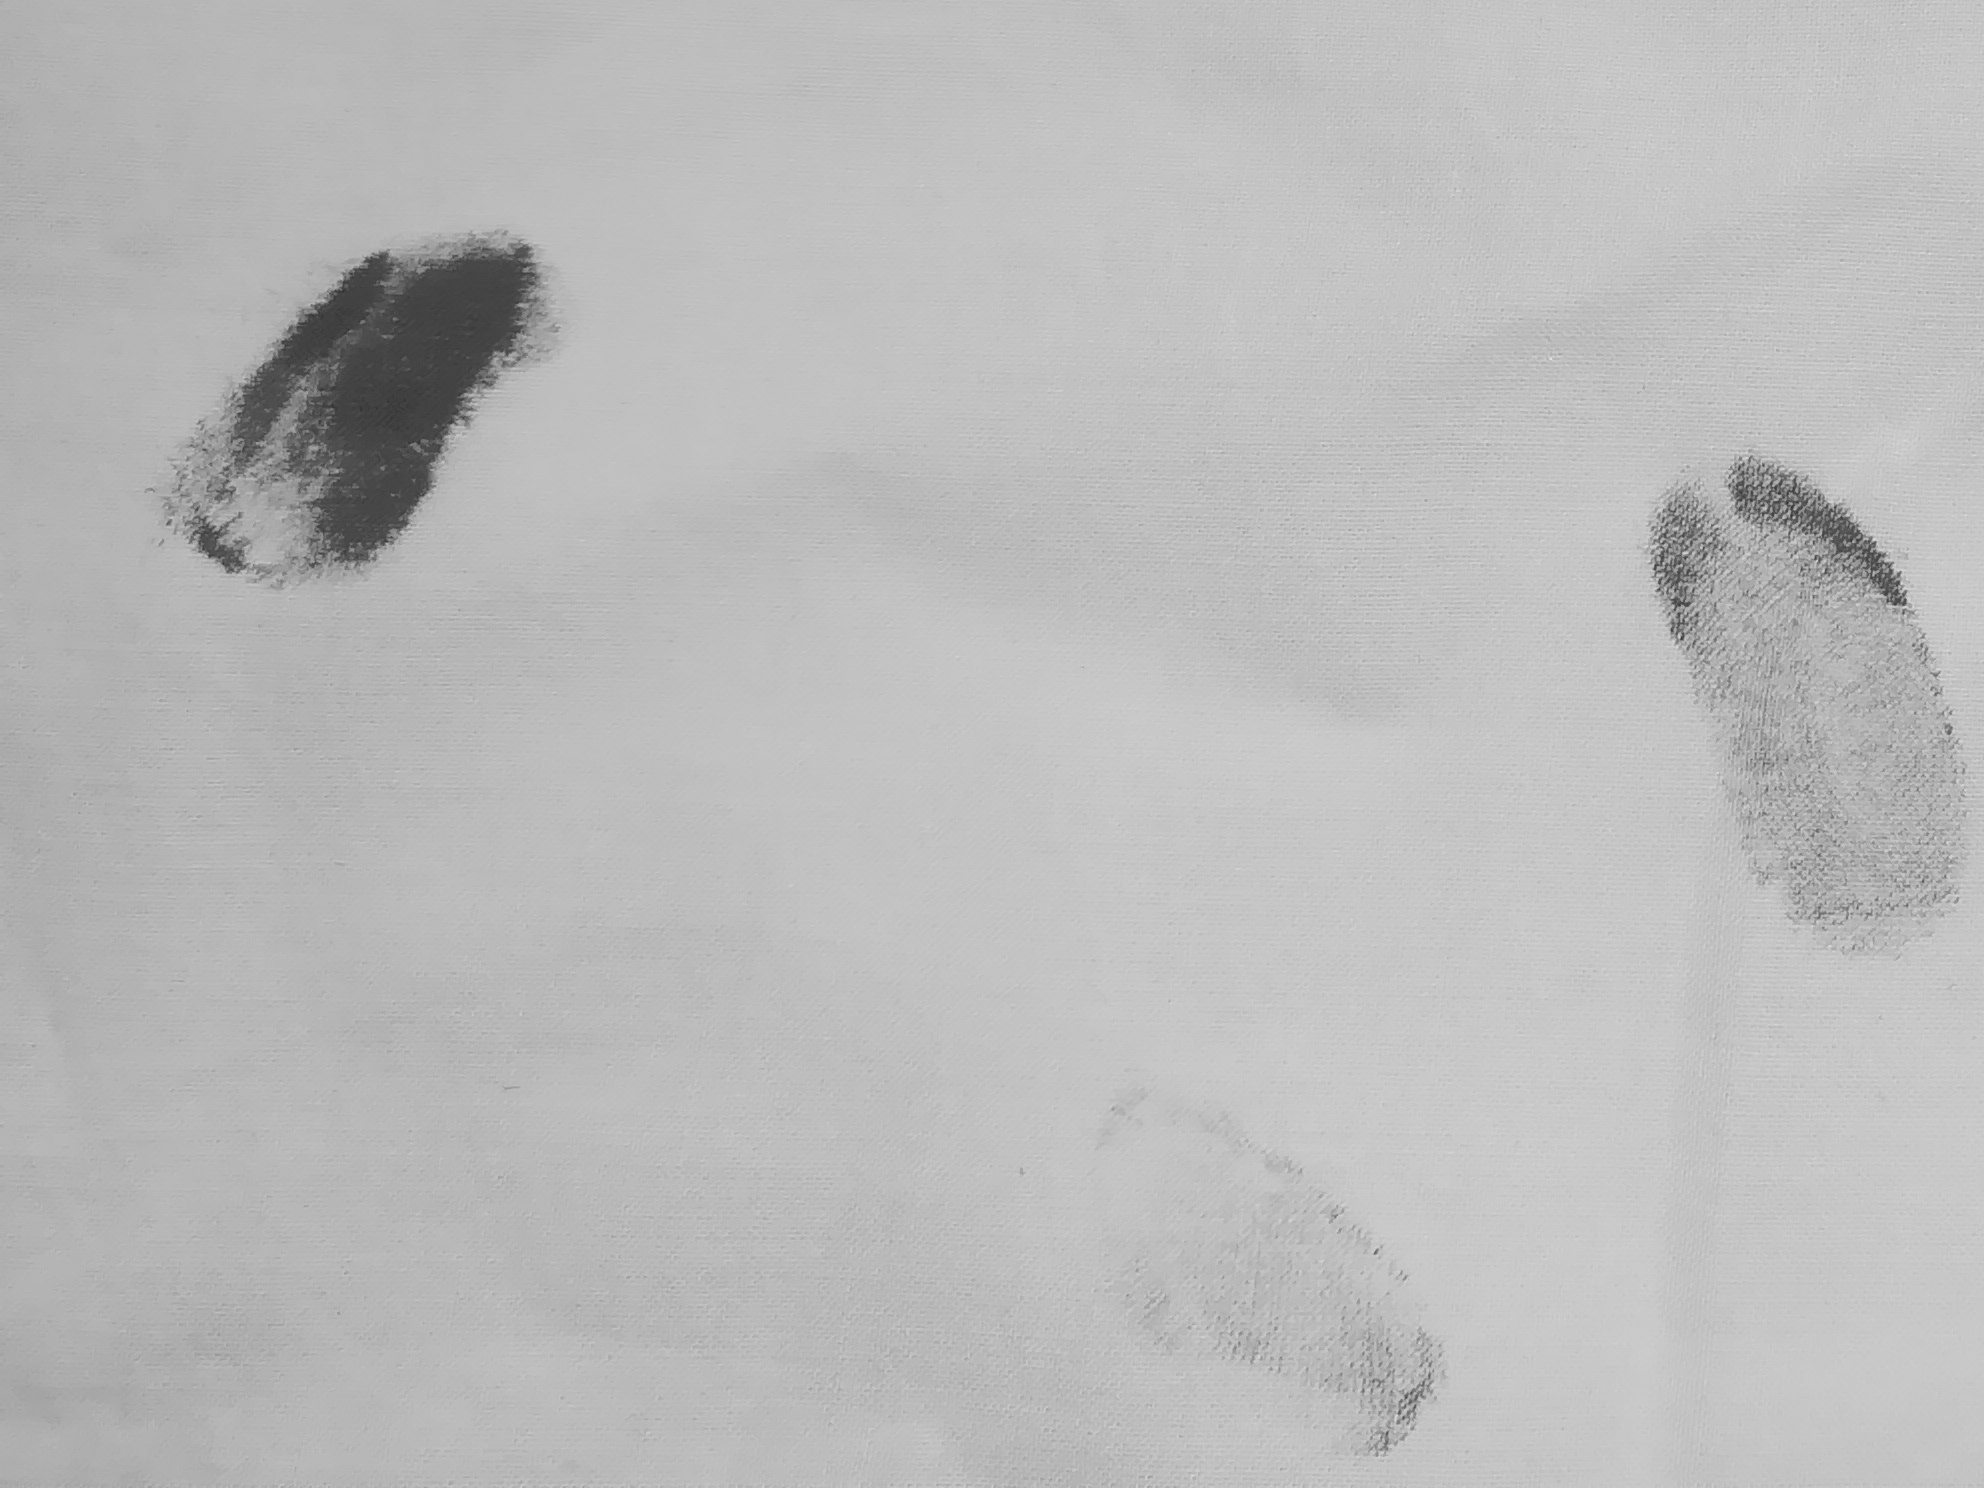Stain: (948, 1010, 1600, 1479), (52, 188, 711, 616), (1542, 356, 1984, 968)
